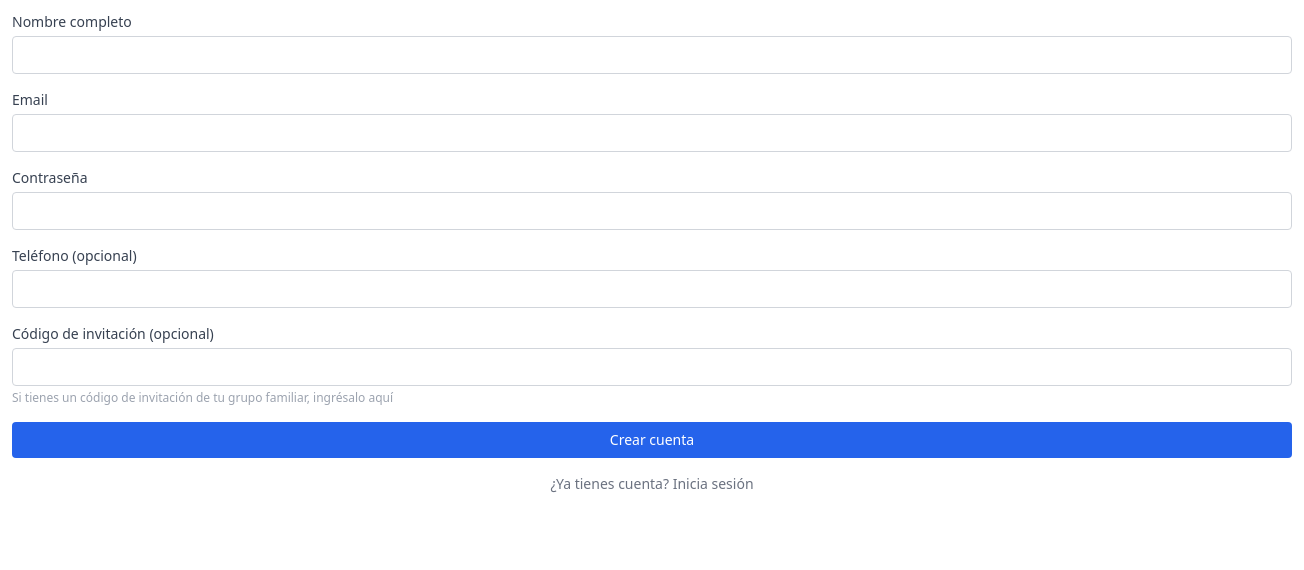
RegisterPage › shows error on INVALID_INVITE_CODE
In the field labelled "Nombre completo": (652, 55) [12,36,1292,74], type "Test User"
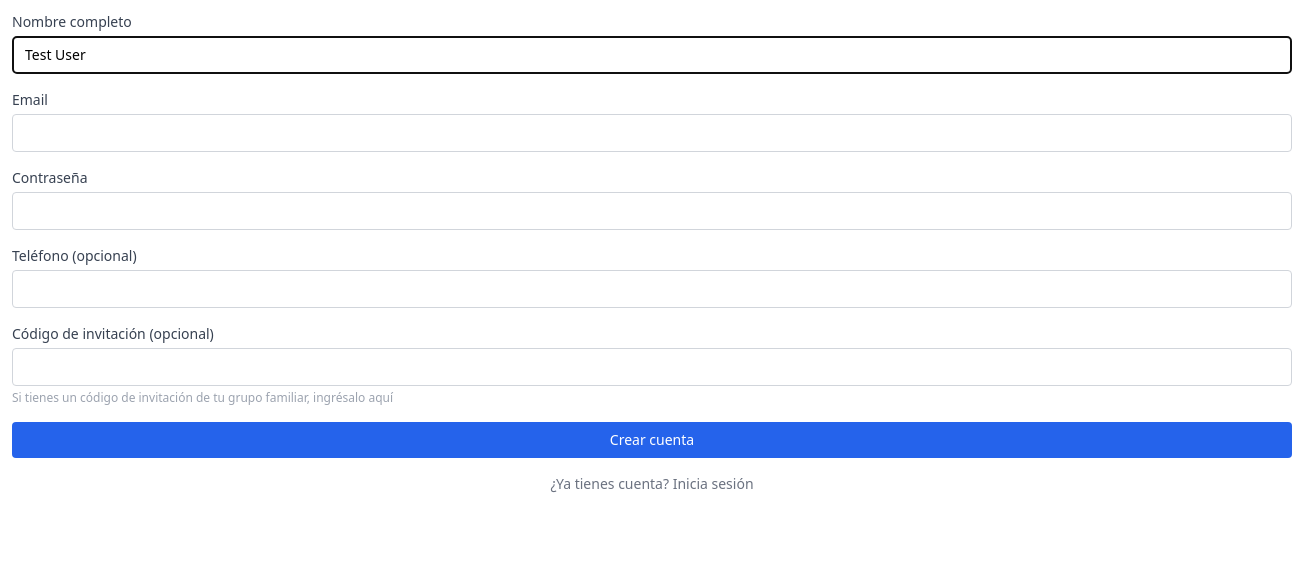
In the field labelled "Email": (652, 133) [12,114,1292,152], type "new@example.com"
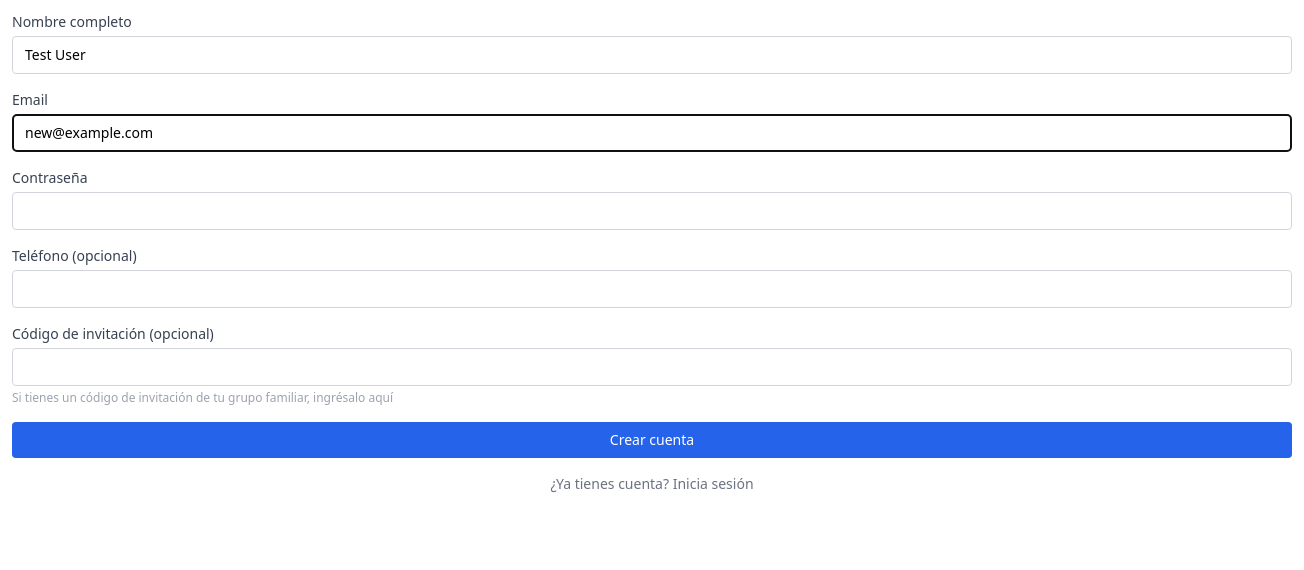
In the password field labelled "Contraseña": (652, 211) [12,192,1292,230], type "password123"
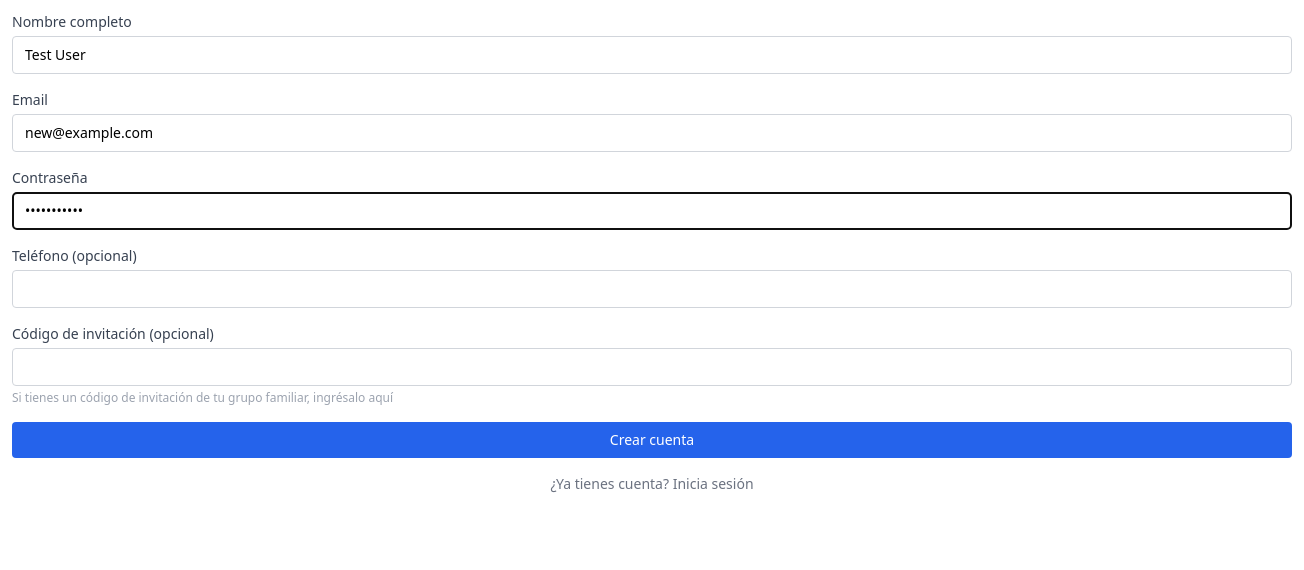
In the field labelled "Código de invitación (opcional)": (652, 367) [12,348,1292,386], type "BADCODE"
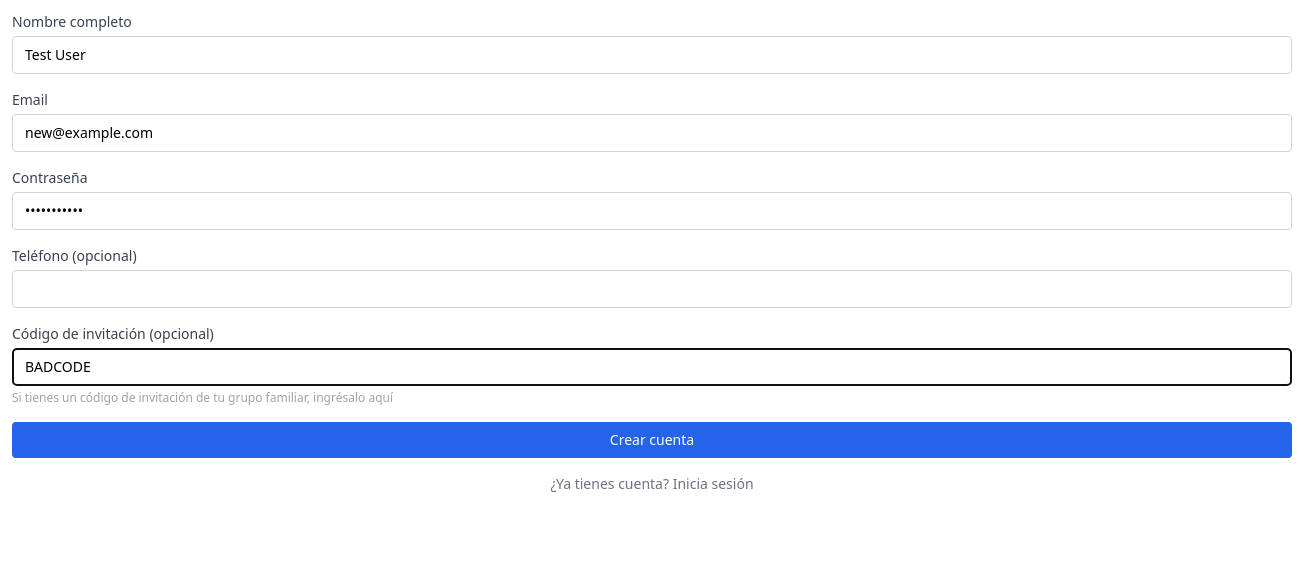
Click the button "Crear cuenta": (652, 440) [12,422,1292,458]
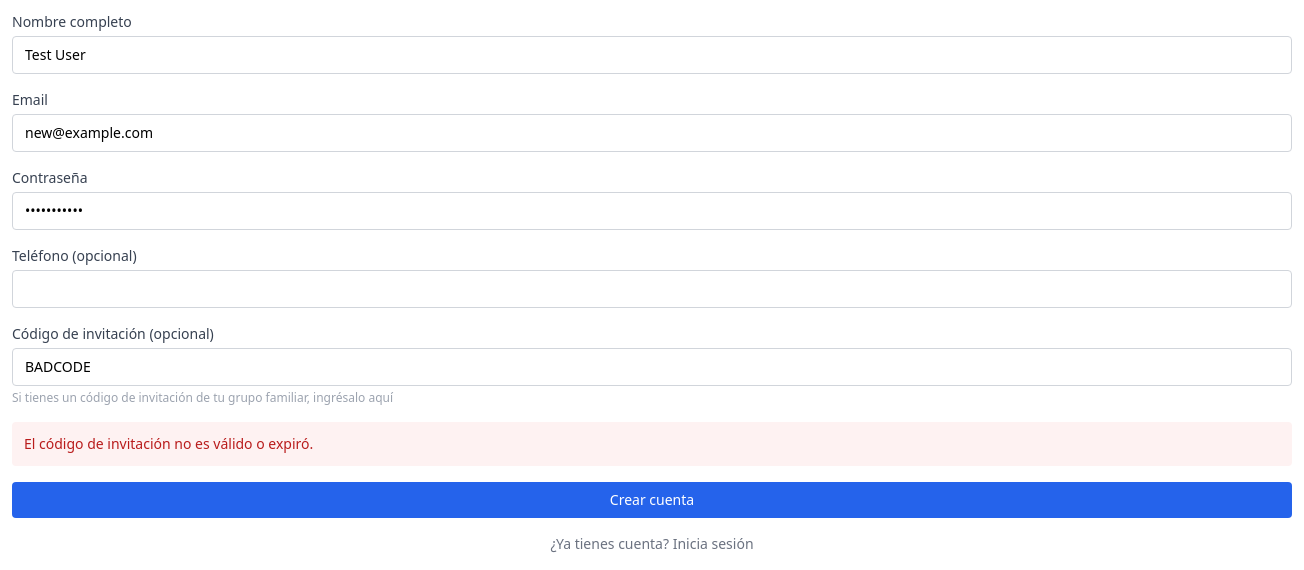
Now the text "El código de invitación no es válido o expiró." is shown, box [12,422,1292,466]
